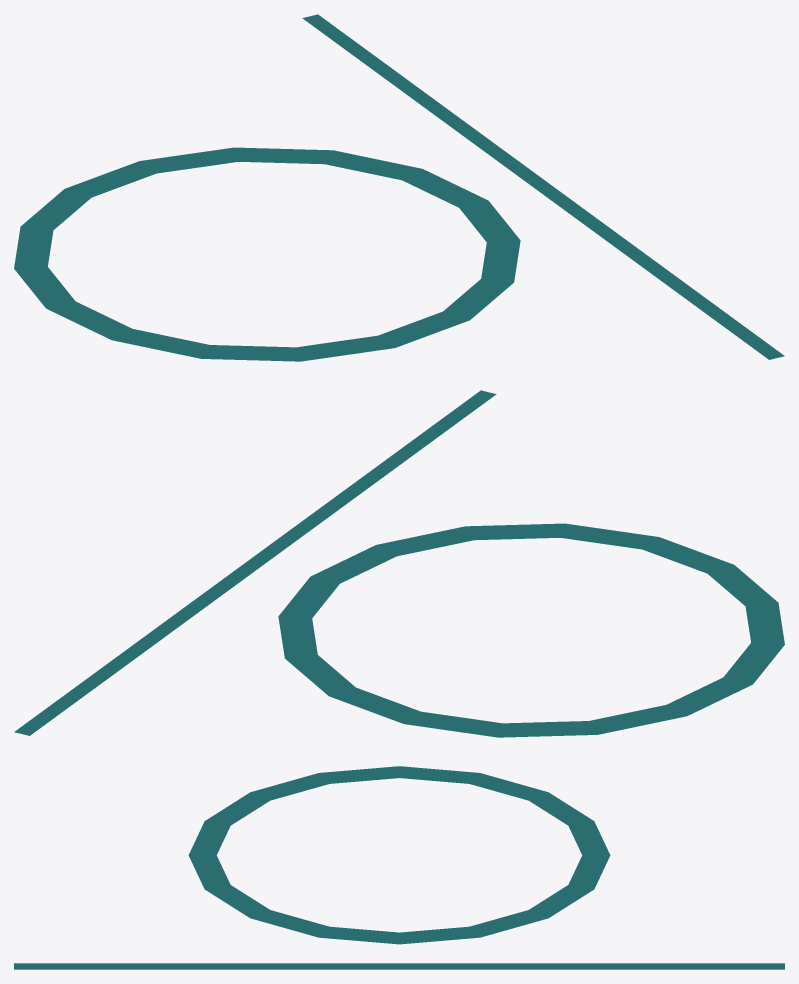
Rendered from squidgame_props_O.fbx.
3 renders of one model, top to bottom at view 1: azimuth 30°, elevation 25°; view 2: azimuth 150°, elevation 25°; view 3: azimuth 270°, elevation 25°, orthographic. The views are drawn at different scales.
Visible parts, largest first — view 1: squidgame_props_O; view 2: squidgame_props_O; view 3: squidgame_props_O.
Boxes of the visible parts, left/top/right/bottom form: squidgame_props_O: left=14, top=14, right=784, bottom=361; squidgame_props_O: left=14, top=390, right=784, bottom=737; squidgame_props_O: left=14, top=766, right=784, bottom=969.
Bounding box in the file's own units: 5.01 × 5.23e-15 × 8.02.
